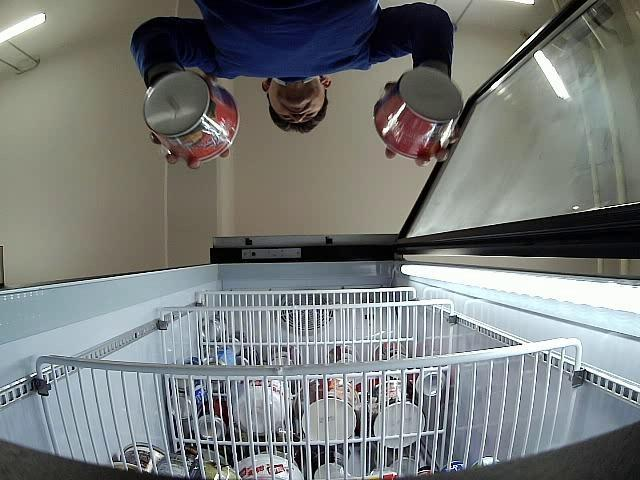01_ShinRamen_L: (143, 74, 240, 164), (373, 68, 462, 160)
